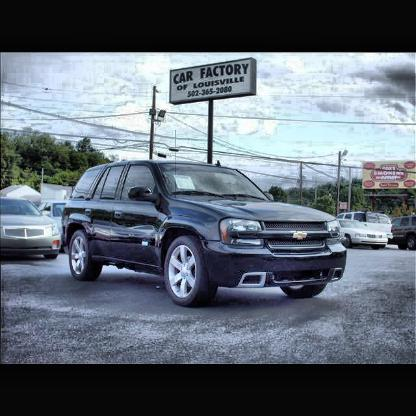Chevrolet TrailBlazer SS 2009: (61, 160, 348, 310)
